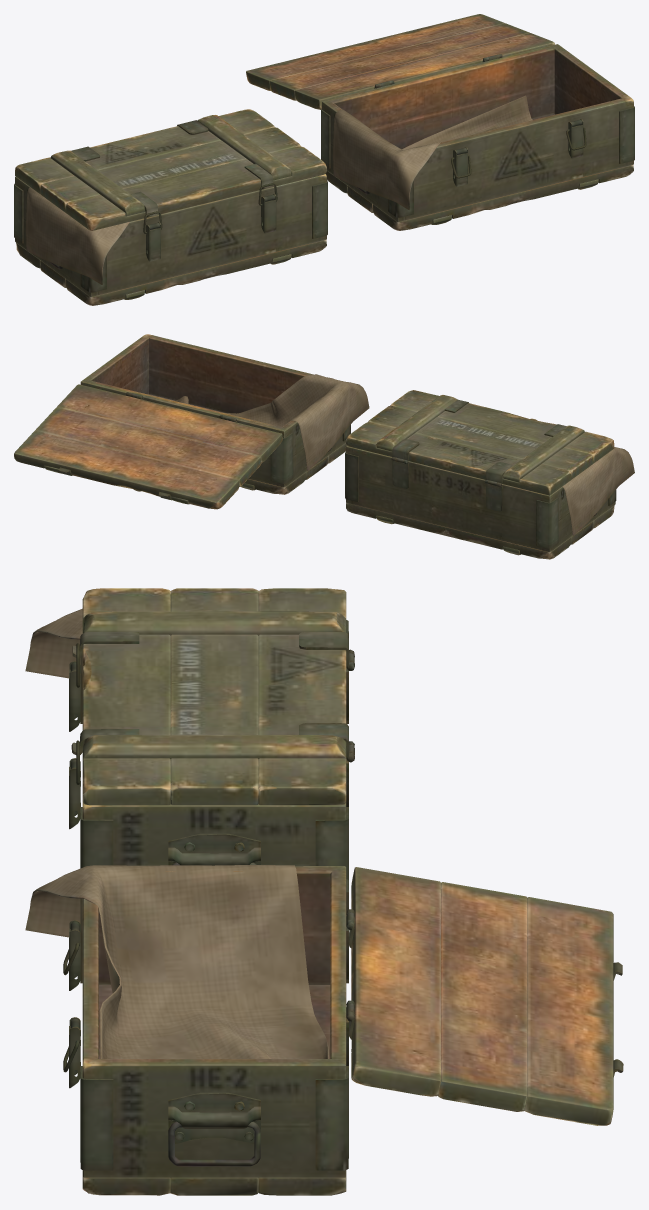
File: old_military_crate.glb
3 renders of one model, top to bottom at view 1: azimuth 30°, elevation 25°; view 2: azimuth 150°, elevation 25°; view 3: azimuth 270°, elevation 25°, orthographic. The views are drawn at different scales.
Visible parts, largest first — view 1: old_military_crate_b, old_military_crate_lid_a, old_military_crate_a, old_military_crate_lid_b, old_military_crate_cloth_b, old_military_crate_cloth_a, old_military_crate_latch_a, old_military_crate_latch_b; view 2: old_military_crate_lid_b, old_military_crate_lid_a, old_military_crate_a, old_military_crate_b, old_military_crate_cloth_b, old_military_crate_cloth_a; view 3: old_military_crate_lid_a, old_military_crate_lid_b, old_military_crate_b, old_military_crate_cloth_b, old_military_crate_a, old_military_crate_cloth_a, old_military_crate_latch_b, old_military_crate_latch_a.
Boxes of the visible parts, left/top/right/bottom form: old_military_crate_b: left=321, top=44, right=634, bottom=230; old_military_crate_lid_a: left=15, top=109, right=326, bottom=230; old_military_crate_a: left=14, top=174, right=327, bottom=305; old_military_crate_lid_b: left=246, top=14, right=554, bottom=109; old_military_crate_cloth_b: left=333, top=95, right=532, bottom=209; old_military_crate_cloth_a: left=26, top=187, right=129, bottom=284; old_military_crate_latch_a: left=146, top=194, right=276, bottom=261; old_military_crate_latch_b: left=453, top=119, right=583, bottom=186; old_military_crate_lid_b: left=14, top=384, right=282, bottom=509; old_military_crate_lid_a: left=346, top=390, right=614, bottom=495; old_military_crate_a: left=345, top=446, right=616, bottom=559; old_military_crate_b: left=80, top=334, right=350, bottom=494; old_military_crate_cloth_b: left=174, top=374, right=369, bottom=470; old_military_crate_cloth_a: left=562, top=447, right=634, bottom=535; old_military_crate_lid_a: left=71, top=588, right=354, bottom=805; old_military_crate_lid_b: left=346, top=867, right=623, bottom=1125; old_military_crate_b: left=80, top=866, right=354, bottom=1195; old_military_crate_cloth_b: left=25, top=865, right=328, bottom=1058; old_military_crate_a: left=80, top=620, right=354, bottom=889; old_military_crate_cloth_a: left=25, top=608, right=82, bottom=678; old_military_crate_latch_b: left=69, top=920, right=80, bottom=1088; old_military_crate_latch_a: left=69, top=661, right=80, bottom=829.
Bounding box in the file's own units: 1.82 × 0.3009 × 0.9757.
1 material, 1 textured.
